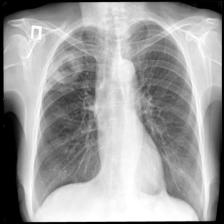tuberculosis: (27, 14, 210, 221)
